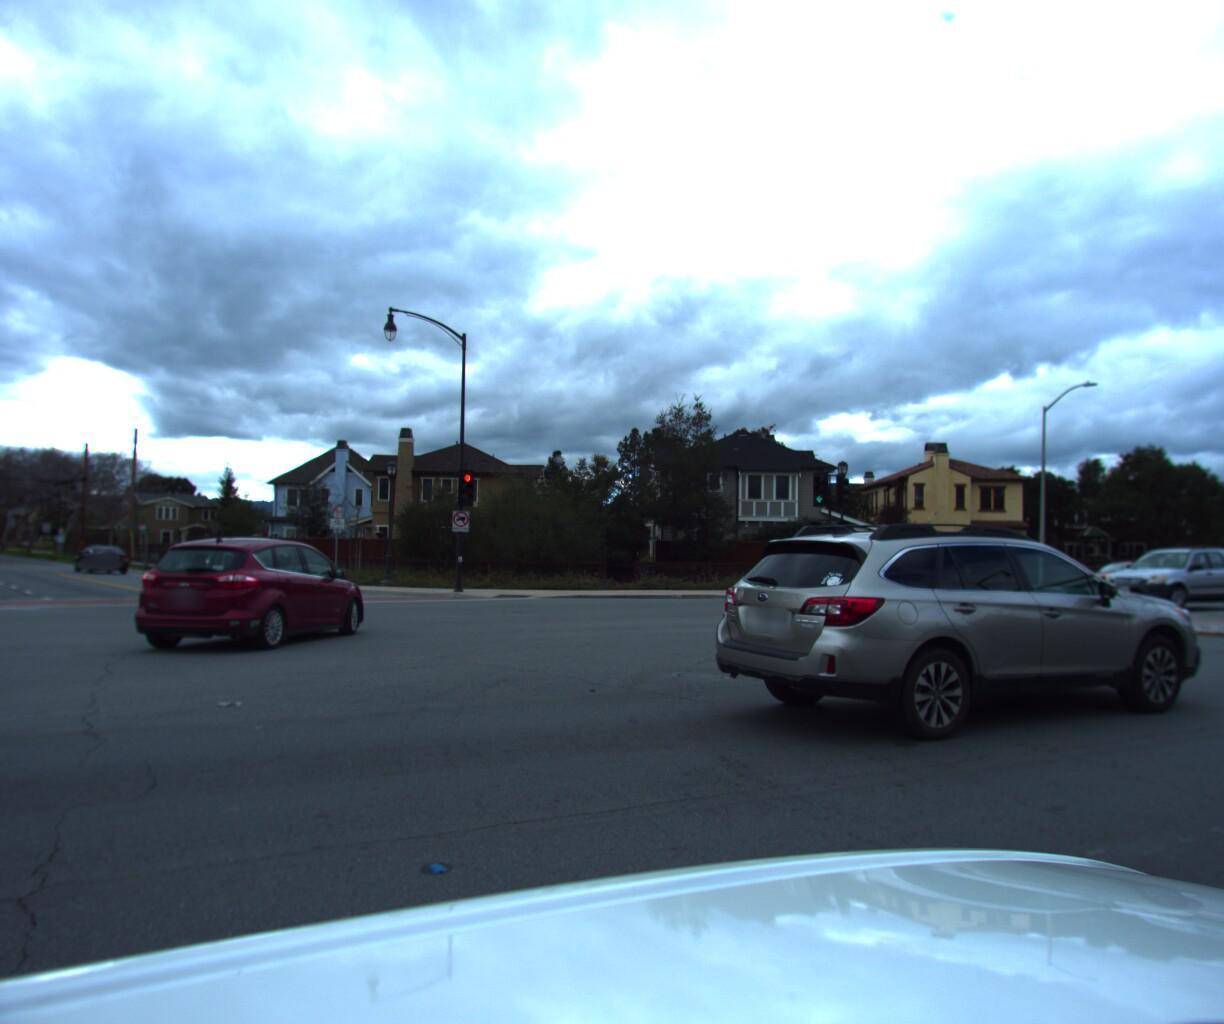car: (689, 507, 1220, 758), (118, 532, 377, 661), (1067, 538, 1224, 614), (1069, 563, 1169, 596), (71, 545, 133, 579)
